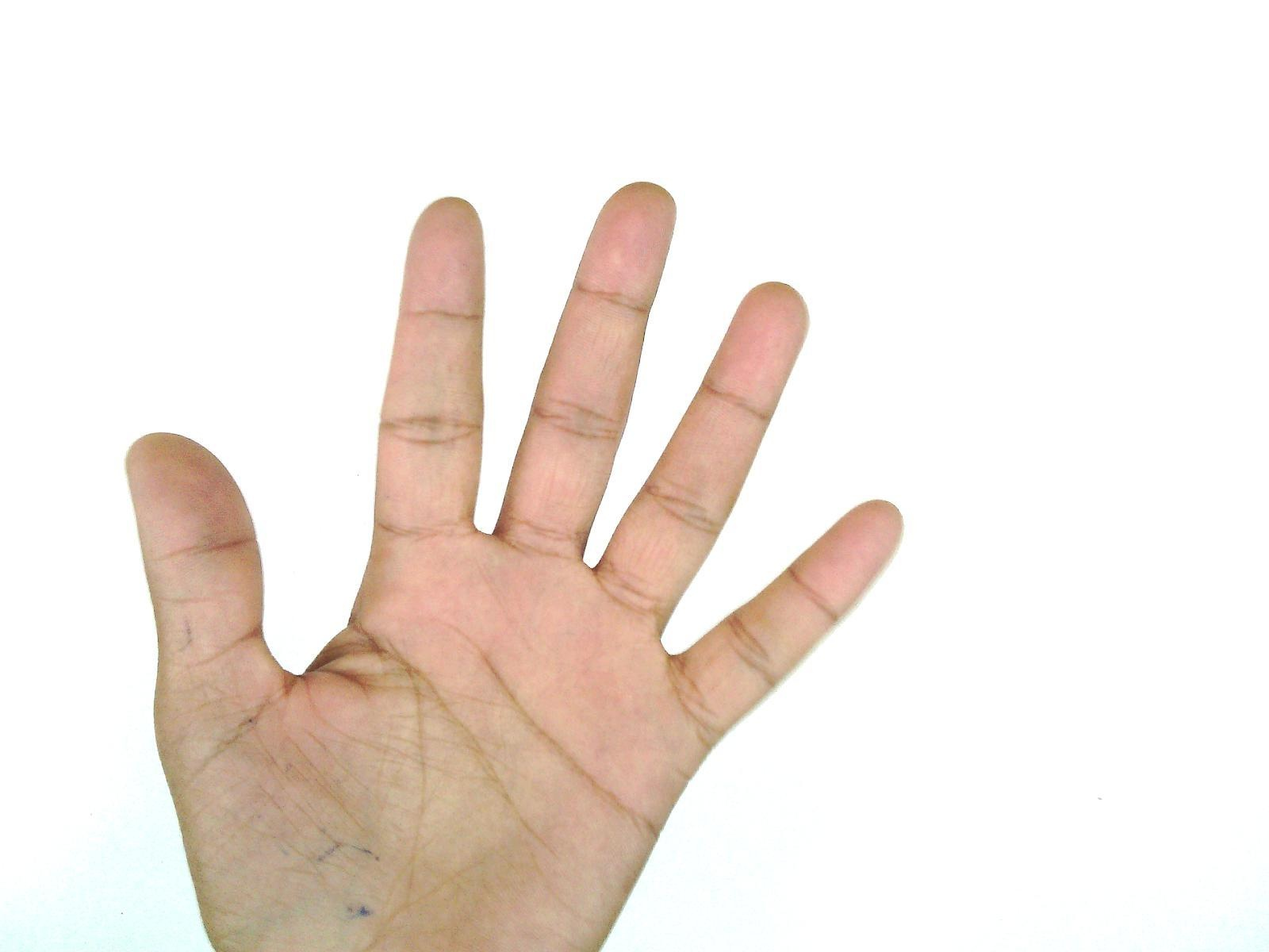open_palm: (122, 179, 907, 951)
